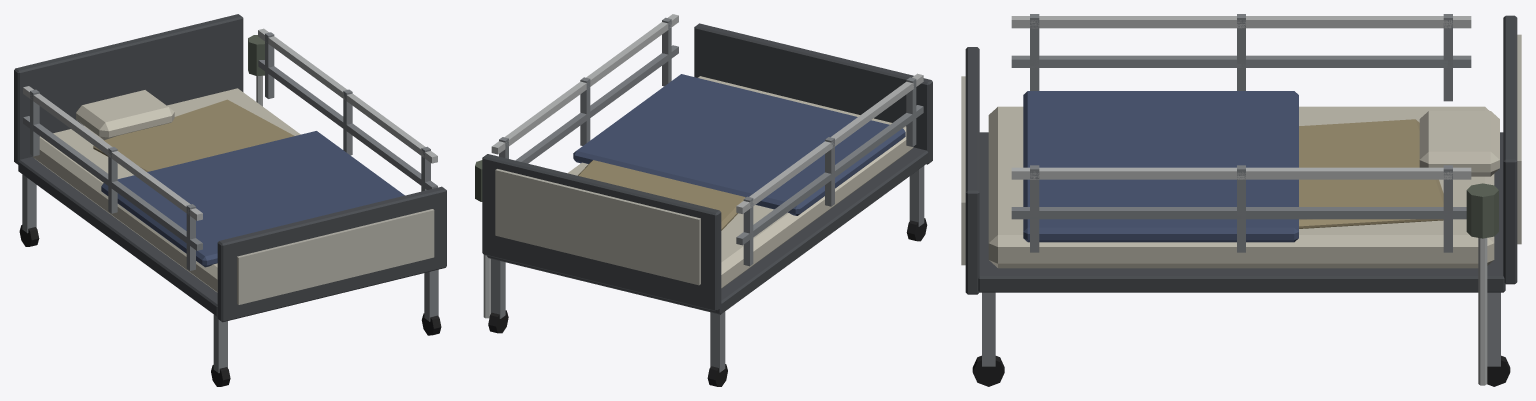
File: lmk_hospital_ward_bed.fbx
3 views of the same model, side by side, from view 1: azimuth 30°, elevation 25°; view 2: azimuth 150°, elevation 25°; view 3: azimuth 270°, elevation 25° (orthographic). The views are drawn at different scales.
Parts seen in each view (by area): view 1: lmk_hospital_ward_bed; view 2: lmk_hospital_ward_bed; view 3: lmk_hospital_ward_bed.
Part boxes in pixels (x1,y1,x2,y2): lmk_hospital_ward_bed: (14,14,446,386); lmk_hospital_ward_bed: (475,14,932,386); lmk_hospital_ward_bed: (961,14,1521,386).
Size of the model in its own units: 1.67 by 1.1 by 2.44.
